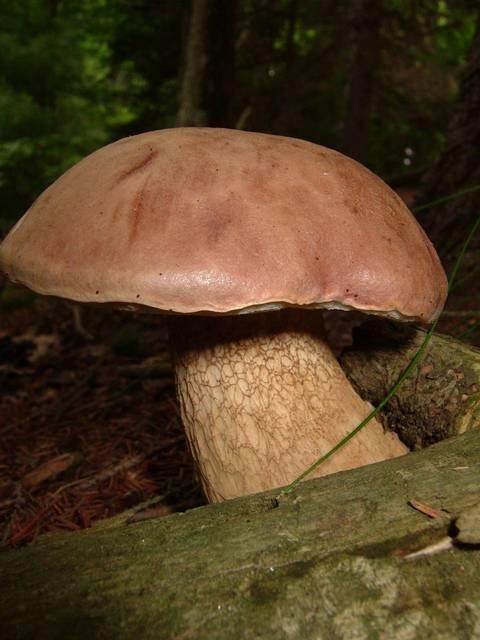poisonous_mushroom: (0, 124, 450, 505)
